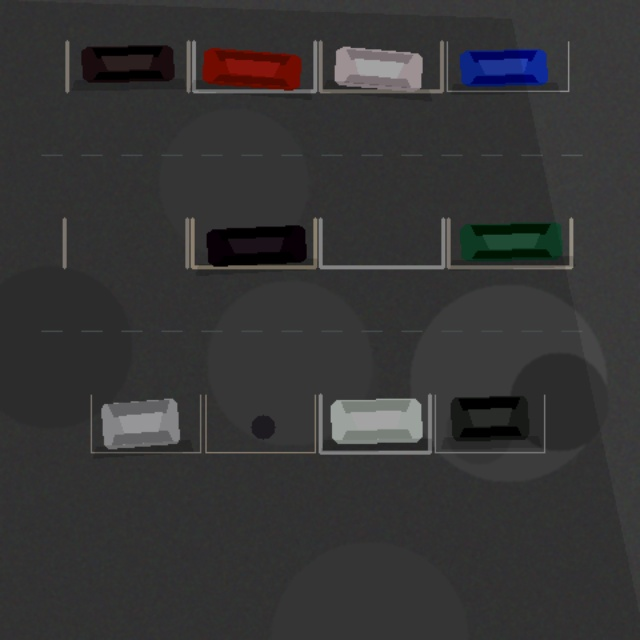space-empty: (205, 395, 315, 452), (64, 219, 187, 267), (320, 219, 443, 267)
space-occupied: (91, 395, 200, 452), (320, 395, 429, 452), (435, 395, 544, 452), (193, 41, 315, 91), (67, 41, 188, 91), (320, 41, 441, 91), (447, 41, 568, 91), (192, 219, 315, 267), (448, 219, 571, 267)
